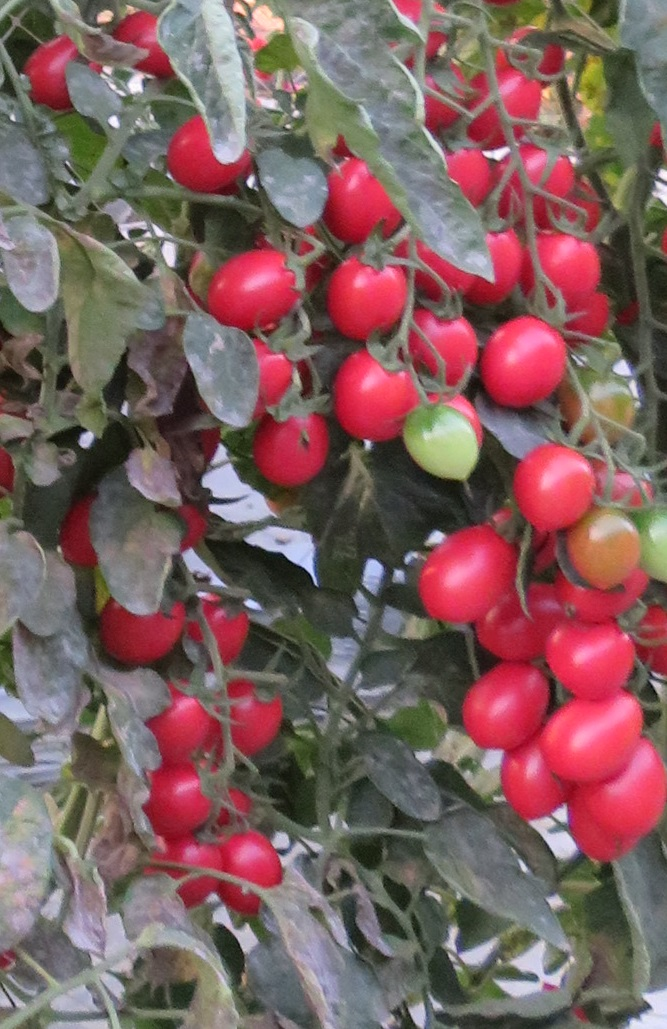green: (405, 397, 490, 484), (565, 369, 638, 450)
red: (540, 684, 662, 784), (420, 527, 524, 623), (542, 625, 647, 708), (511, 443, 605, 533), (588, 735, 662, 847), (333, 346, 417, 443), (205, 253, 312, 329), (482, 316, 570, 406), (16, 31, 107, 112), (464, 668, 553, 749), (105, 7, 197, 84), (253, 401, 335, 486), (324, 261, 406, 343), (572, 509, 645, 597), (144, 763, 230, 837), (469, 68, 544, 150), (459, 220, 527, 306), (501, 150, 574, 224), (219, 830, 287, 907), (144, 692, 214, 766), (493, 750, 556, 832), (232, 337, 295, 419), (96, 606, 182, 666), (325, 166, 394, 240), (411, 314, 479, 389), (164, 122, 229, 199), (144, 842, 223, 905), (194, 595, 255, 668), (58, 490, 110, 568), (233, 689, 282, 751), (538, 242, 588, 300)
